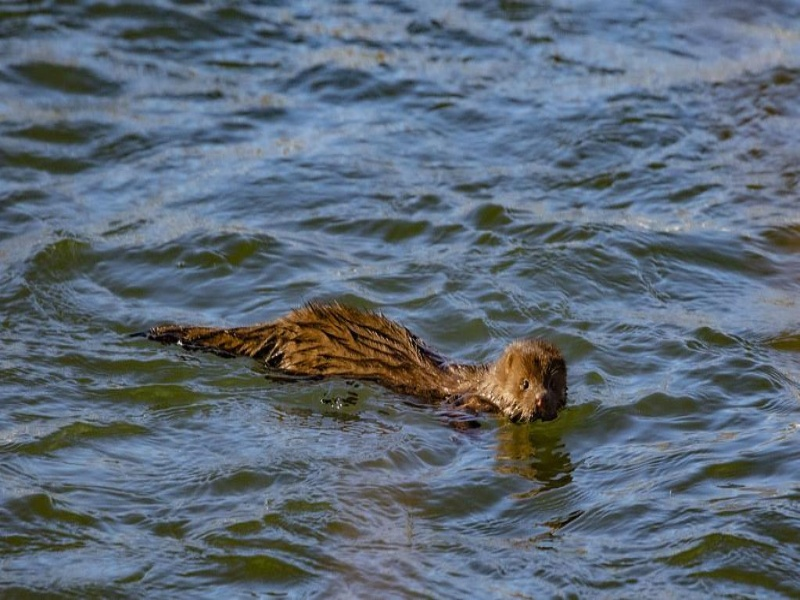minkish: (130, 291, 571, 425)
